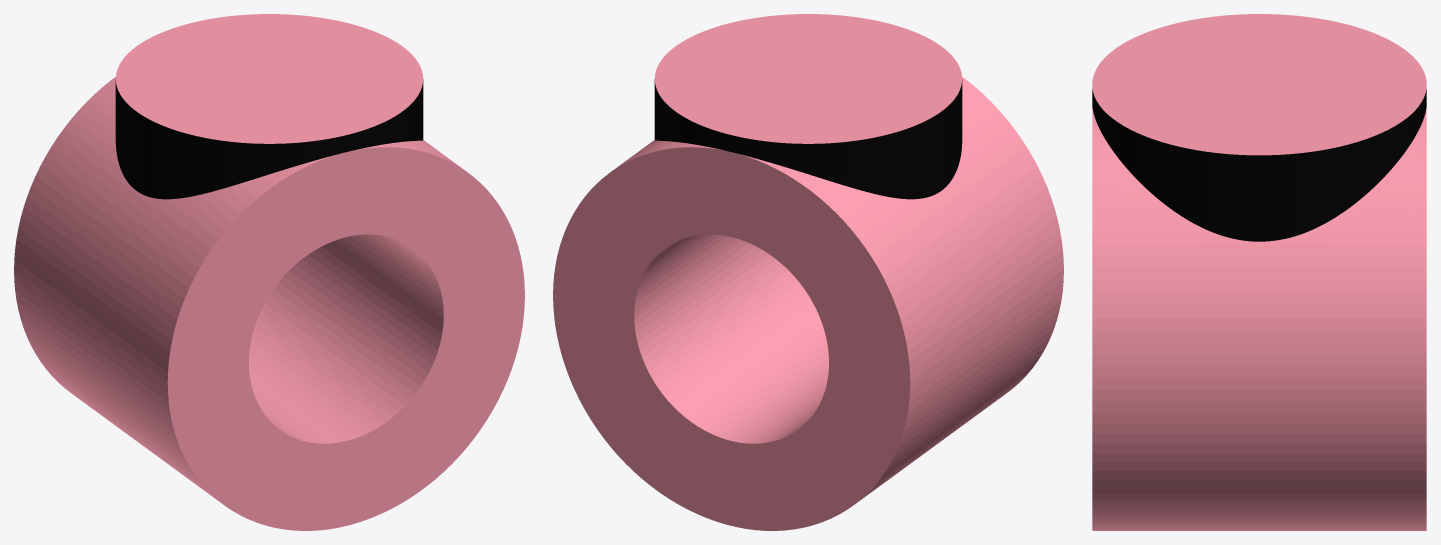
File: Astorino Robot Joint 5.dae
The picture shows the model from 3 angles, left to right: view 1: azimuth 30°, elevation 25°; view 2: azimuth 150°, elevation 25°; view 3: azimuth 270°, elevation 25°; orthographic projection. The views are drawn at different scales.
Parts seen in each view (by area): view 1: Astorino Robot Joint 5; view 2: Astorino Robot Joint 5; view 3: Astorino Robot Joint 5.
Part boxes in pixels (x1=…): Astorino Robot Joint 5: x1=14, y1=14, x2=524, y2=530; Astorino Robot Joint 5: x1=553, y1=14, x2=1063, y2=530; Astorino Robot Joint 5: x1=1092, y1=14, x2=1426, y2=530.
Size of the model in its own units: 0.055 by 0.041 by 0.0575.
